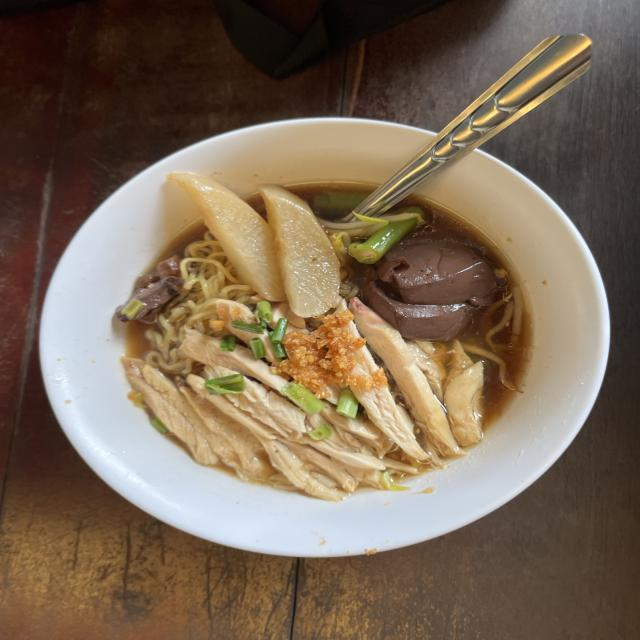boiled_chicken_blood_jelly: (370, 238, 490, 330)
chicken_shredded: (133, 312, 480, 474)
daikon_radish: (158, 168, 342, 316)
noodle: (106, 151, 581, 504)
